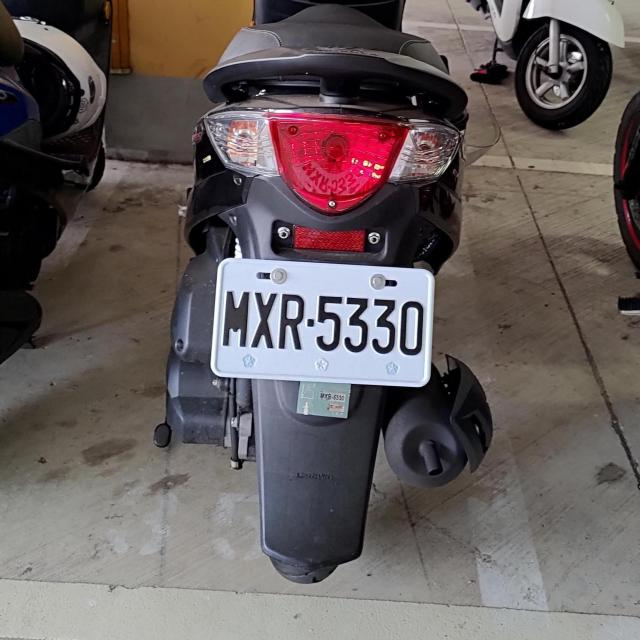W: (212, 258, 434, 387)
